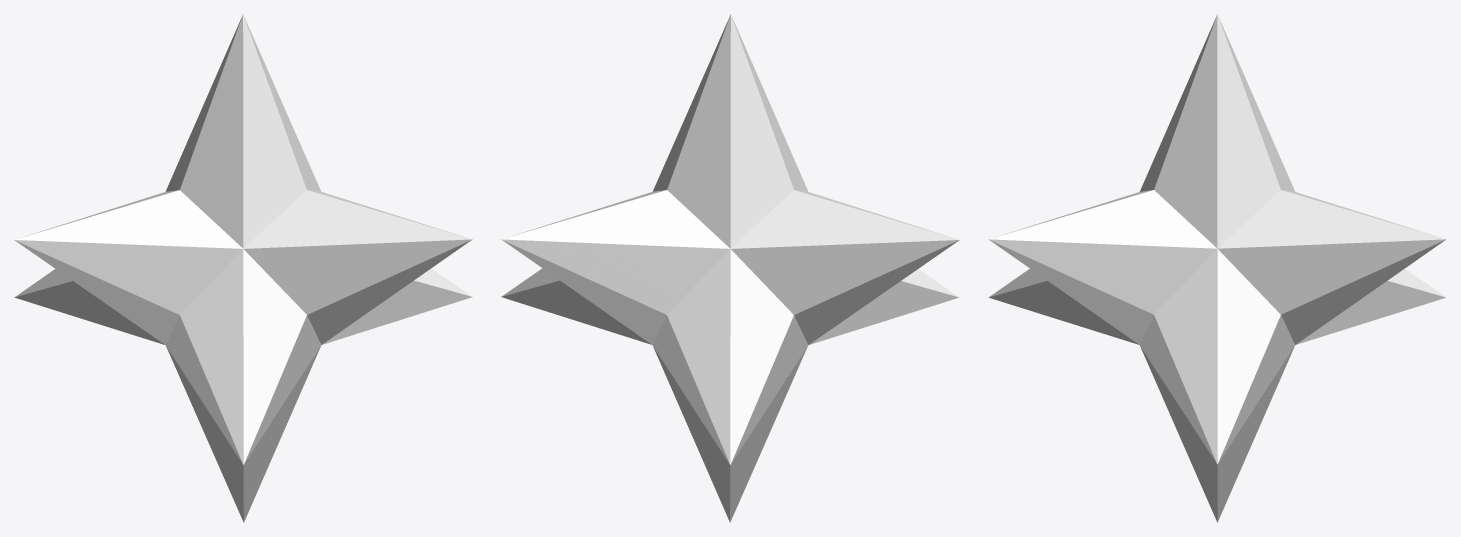
The model's file is great-disdyakis-dodecahedron.gltf.
3 views of the same model, side by side, from view 1: azimuth 30°, elevation 25°; view 2: azimuth 150°, elevation 25°; view 3: azimuth 270°, elevation 25° (orthographic).
Visible parts, largest first — view 1: Great Disdyakisdodecahedron (Dual of 8/3.4.6), WD93, p92; view 2: Great Disdyakisdodecahedron (Dual of 8/3.4.6), WD93, p92; view 3: Great Disdyakisdodecahedron (Dual of 8/3.4.6), WD93, p92.
Part boxes in pixels (bbox=[...]): Great Disdyakisdodecahedron (Dual of 8/3.4.6), WD93, p92: bbox=[14, 14, 472, 522]; Great Disdyakisdodecahedron (Dual of 8/3.4.6), WD93, p92: bbox=[501, 14, 959, 522]; Great Disdyakisdodecahedron (Dual of 8/3.4.6), WD93, p92: bbox=[989, 14, 1445, 522].
Size of the model in its own units: 60.27 by 63.9 by 52.17.
Materials: 1 (1 with a texture image).
